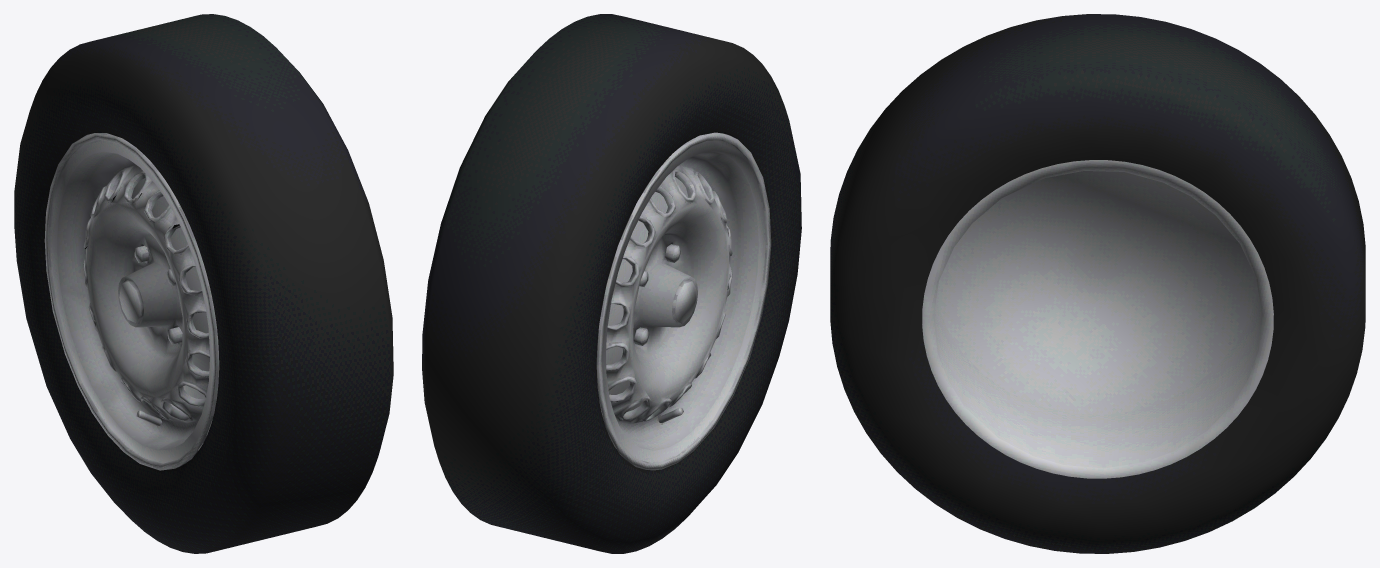
Rendered from wheel_front_left.glb.
The picture shows the model from 3 angles, left to right: view 1: azimuth 30°, elevation 25°; view 2: azimuth 150°, elevation 25°; view 3: azimuth 270°, elevation 25°; orthographic projection. The views are drawn at different scales.
Parts seen in each view (by area): view 1: Alfa1750_Wheel_front_left; view 2: Alfa1750_Wheel_front_left; view 3: Alfa1750_Wheel_front_left.
Part boxes in pixels (bbox=[...]): Alfa1750_Wheel_front_left: bbox=[14, 14, 393, 553]; Alfa1750_Wheel_front_left: bbox=[422, 14, 801, 553]; Alfa1750_Wheel_front_left: bbox=[830, 14, 1365, 553].
Size of the model in its own units: 0.2106 by 0.6205 by 0.6205.
Materials: 1 (1 with a texture image).
